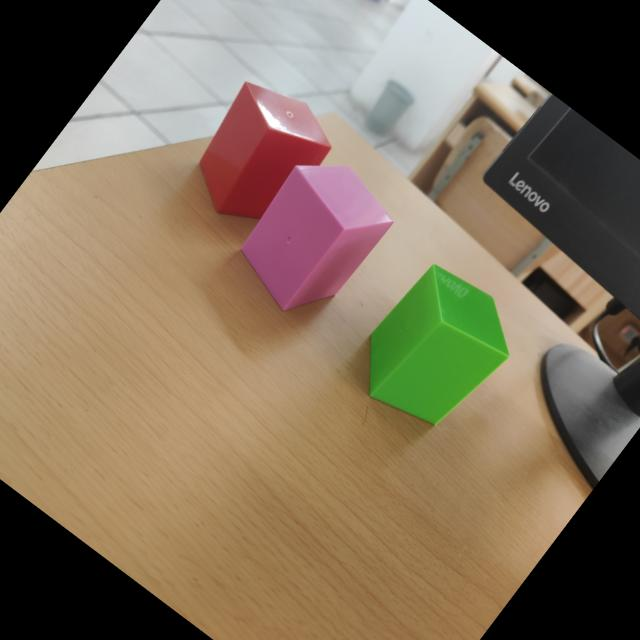green: (366, 266, 508, 427)
pink: (239, 166, 391, 312)
red: (198, 84, 331, 221)
